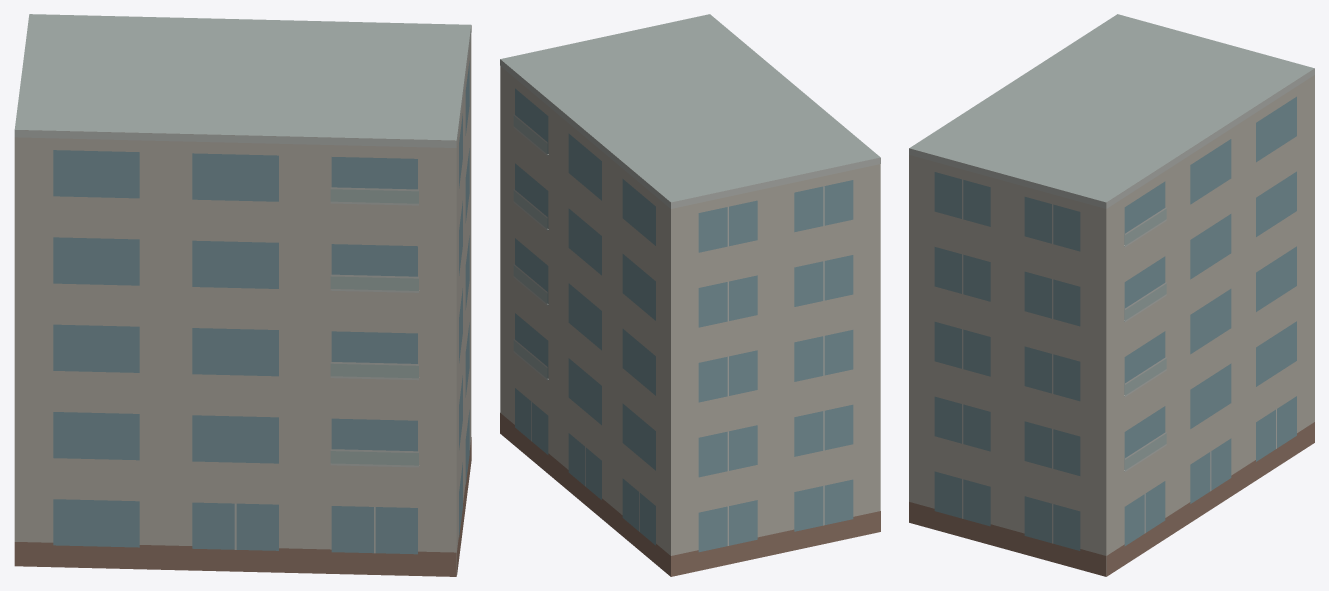
The model's file is survey-upis-33002832.glb.
3 views of the same model, side by side, from view 1: azimuth 30°, elevation 25°; view 2: azimuth 150°, elevation 25°; view 3: azimuth 270°, elevation 25° (orthographic). The views are drawn at different scales.
Visible parts, largest first — view 1: survey-upis-33002832.tmp; view 2: survey-upis-33002832.tmp; view 3: survey-upis-33002832.tmp.
Part boxes in pixels (x1,y1,x2,y2): survey-upis-33002832.tmp: (14,14,471,576); survey-upis-33002832.tmp: (500,14,880,576); survey-upis-33002832.tmp: (909,14,1314,576).
Size of the model in its own units: 15.07 by 13.95 by 13.71.
